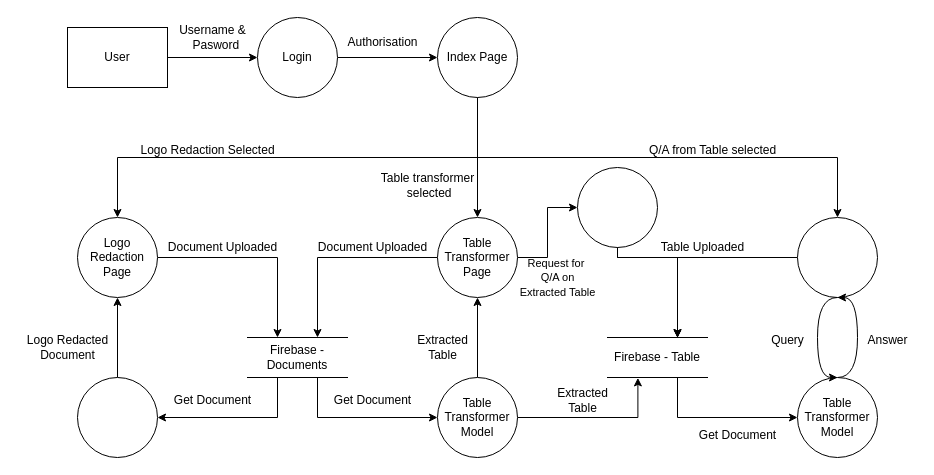
This 934x475 diagram has some shape labels left out. The shapes that lost their labels are listed below. From the top down, each one's centre as x and y in pixels, then its label:
At [617,207]: "Q/A on Extracted Table".
At [837,257]: "Q/A from Table Page".
At [117,417]: "Logo Redaction Model".
